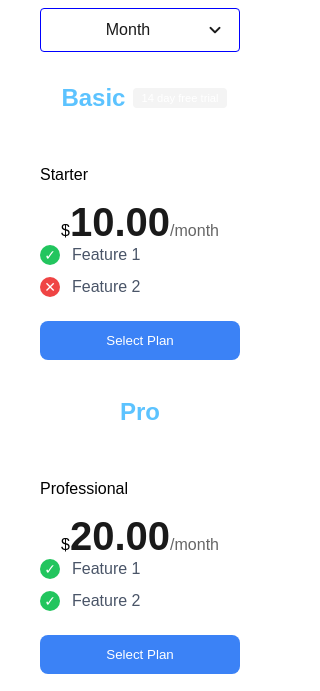
Test case: Product Component › handles billing cycle changes
// Select monthly plan first
Click the button with test id "select-prod_1-Starter-month" at point(140, 341), box [40,321,240,360]
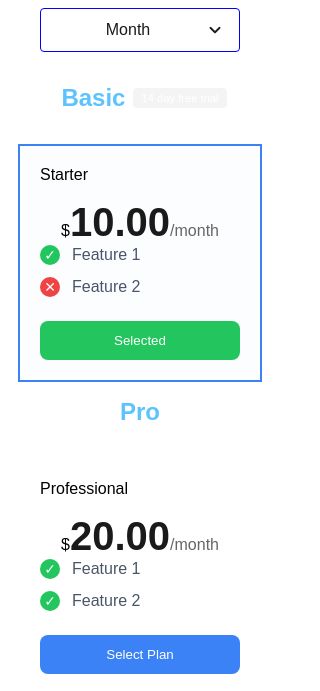
// Change billing cycle to yearly
Click the button with test id ".billing-select [data-cy=\"select-header\"]" at point(140, 30), box [40,8,240,52]
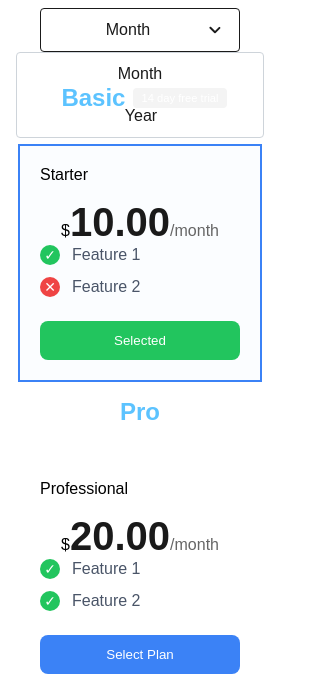
Click the option with test id "select-option-year" at point(141, 116), box [125,107,157,124]
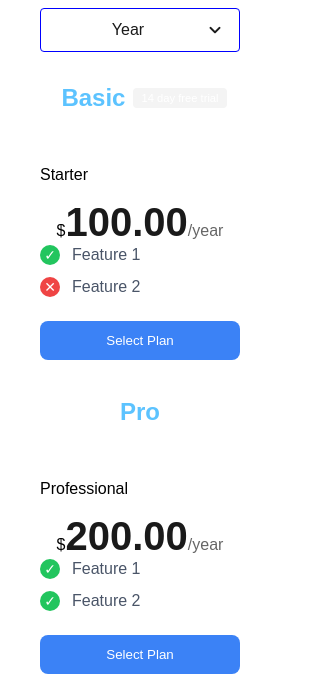
Expected: the text "$100.00" is shown, [57,200,224,244]
Expected: the text "$200.00" is shown, [57,514,224,558]
